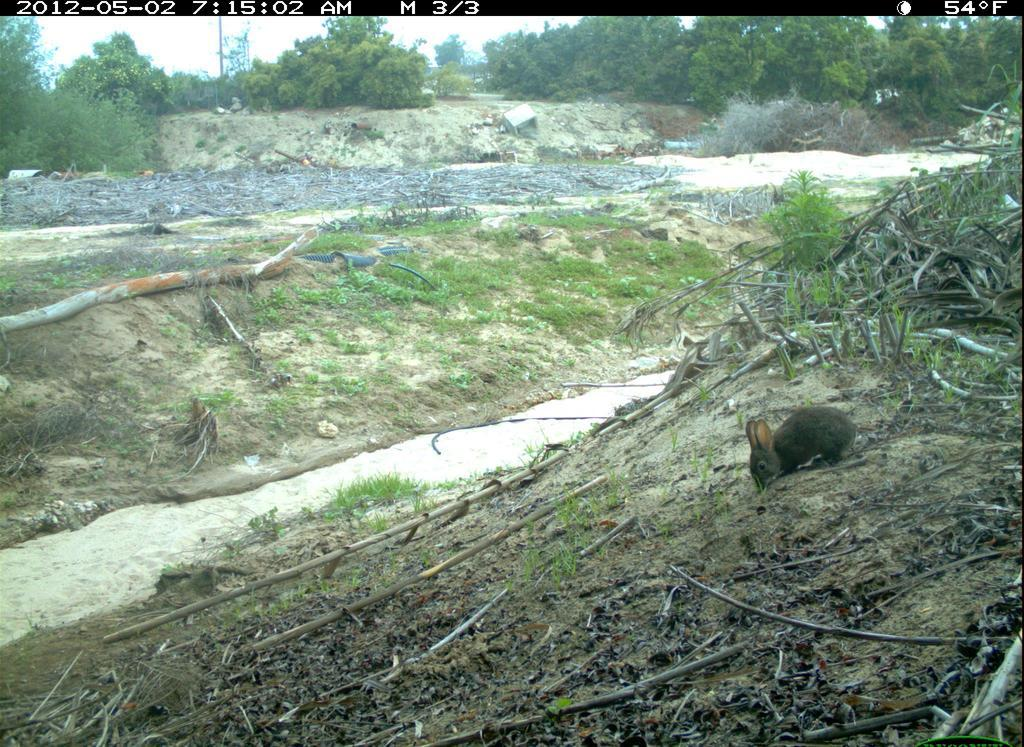rabbit: (743, 404, 867, 489)
